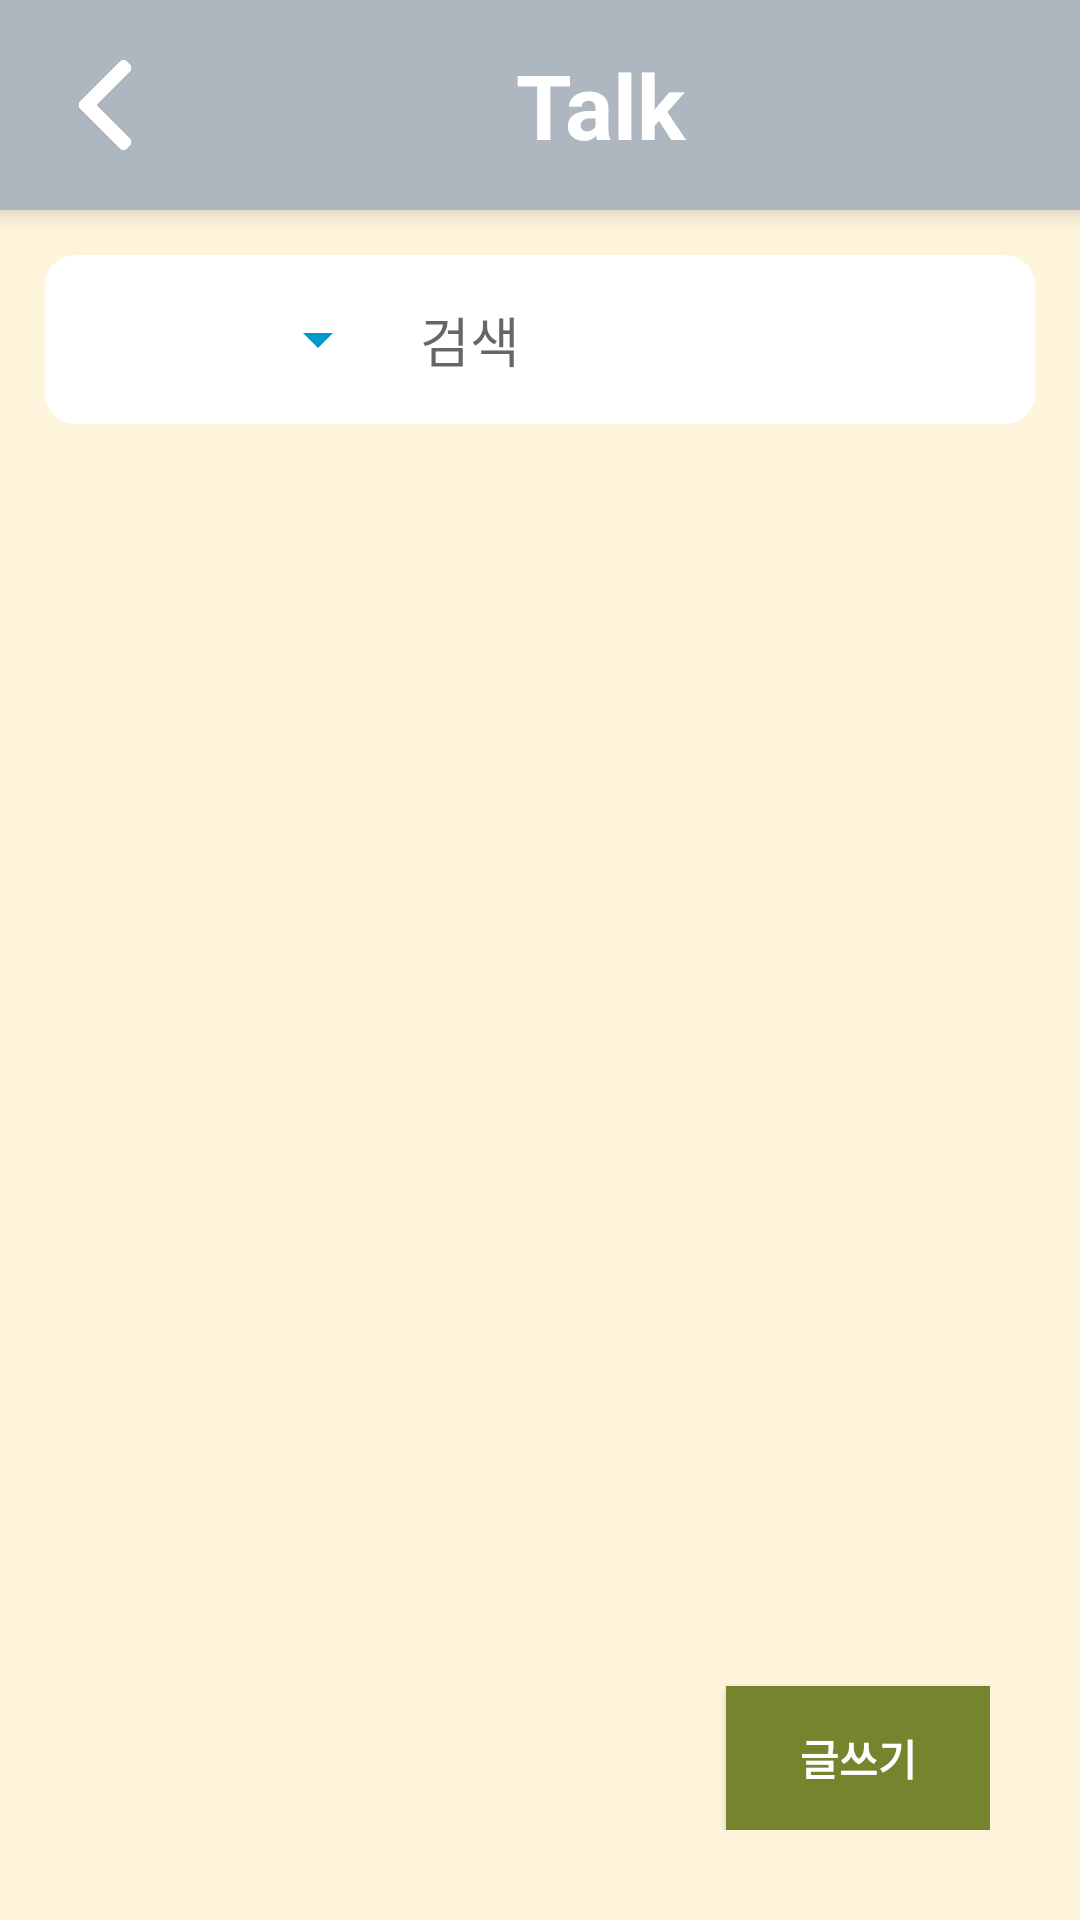

Where to tap for icons on this 1080*1920 app screen, as (x,y):
leftarrow: (105,105)
